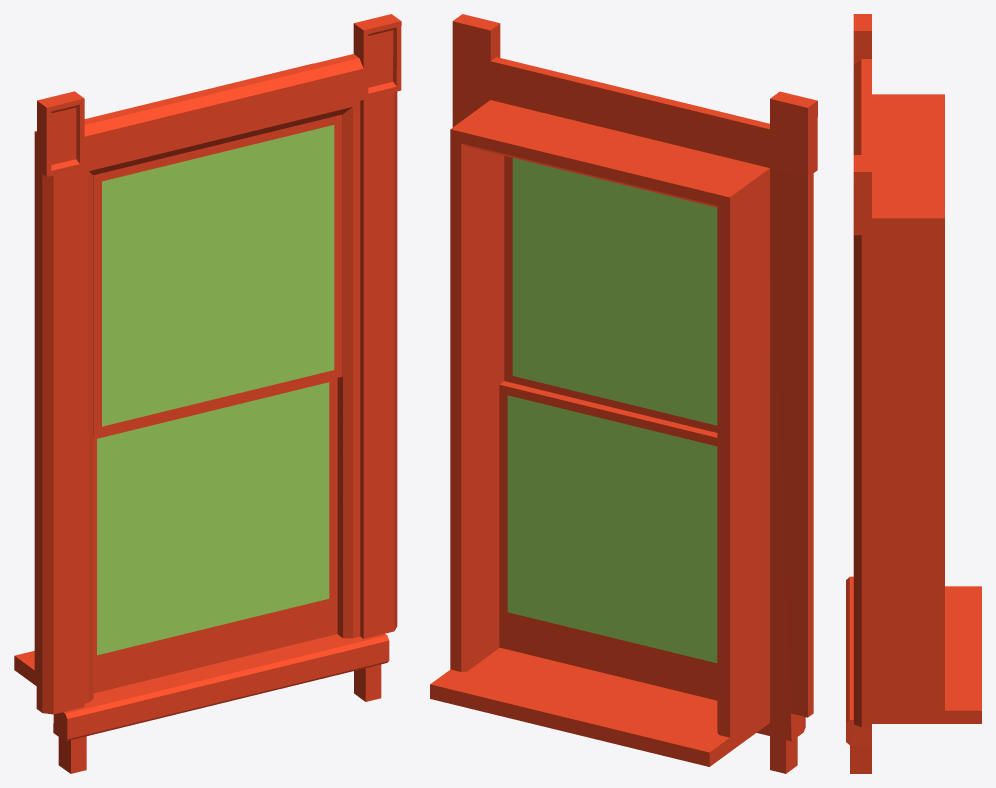
Rendered from SM_Window_B_City.fbx.
The picture shows the model from 3 angles, left to right: view 1: azimuth 30°, elevation 25°; view 2: azimuth 150°, elevation 25°; view 3: azimuth 270°, elevation 25°; orthographic projection. The views are drawn at different scales.
Visible parts, largest first — view 1: SM_Window_B_City_Frame, SM_Window_B_City_Glass_T, SM_Window_B_City_Glass_B; view 2: SM_Window_B_City_Frame, SM_Window_B_City_Glass_B, SM_Window_B_City_Glass_T; view 3: SM_Window_B_City_Frame.
Part boxes in pixels (x1,y1,x2,y2): SM_Window_B_City_Frame: (14,14,401,773); SM_Window_B_City_Glass_T: (93,114,342,437); SM_Window_B_City_Glass_B: (93,378,337,693); SM_Window_B_City_Frame: (430,14,817,773); SM_Window_B_City_Glass_B: (499,381,717,700); SM_Window_B_City_Glass_T: (504,156,717,432); SM_Window_B_City_Frame: (846,14,981,773).
Bounding box in the file's own units: 1.21 × 2.18 × 0.439.
